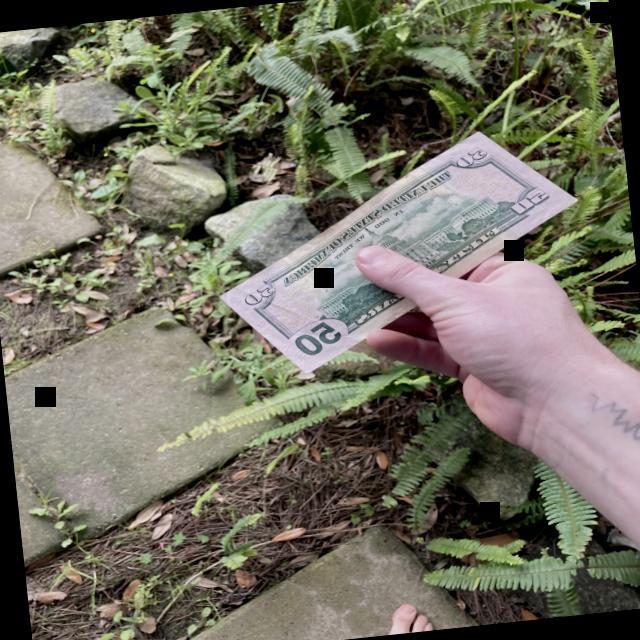fifty: (219, 130, 577, 375)
